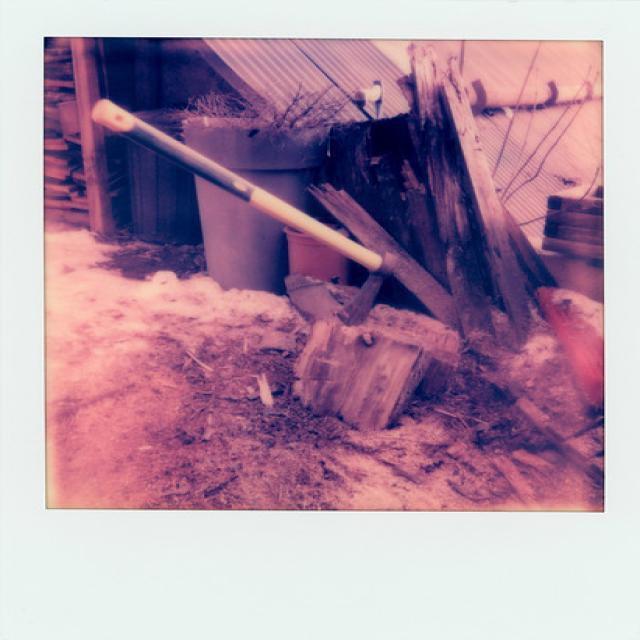Axe: (91, 100, 390, 324)
